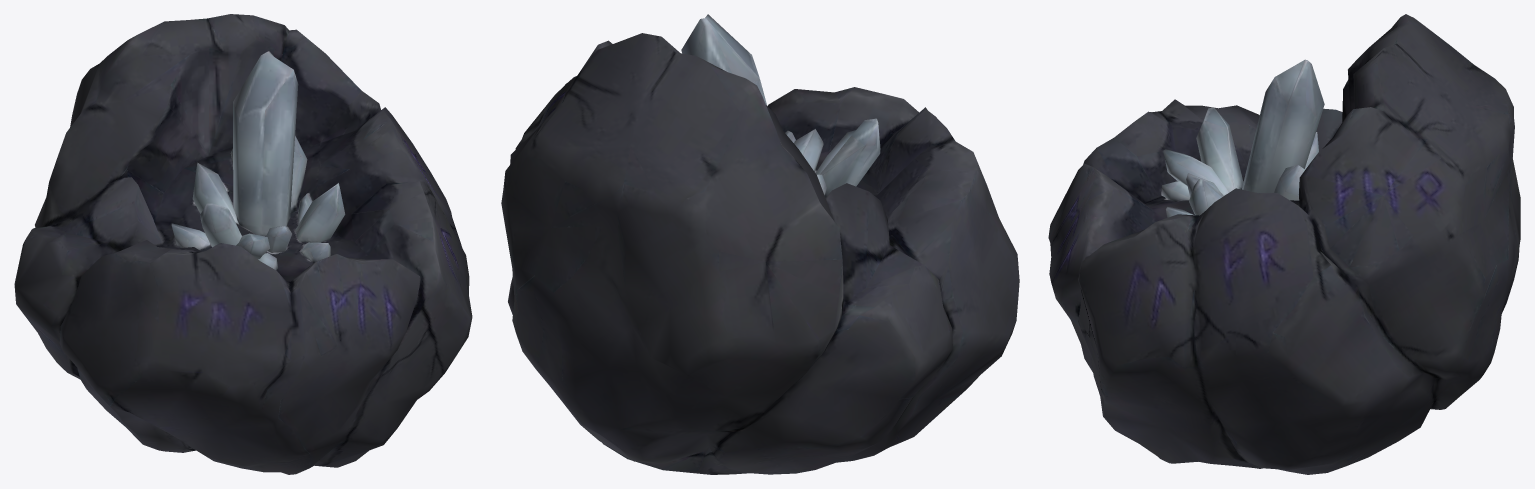
Rendered from prop_node_ore_geode.glb.
3 renders of one model, left to right at view 1: azimuth 30°, elevation 25°; view 2: azimuth 150°, elevation 25°; view 3: azimuth 270°, elevation 25°, orthographic. The views are drawn at different scales.
Visible parts, largest first — view 1: tripo_node_c519e3aa-f8fc-41be-80db-6ed33f1a7bd1; view 2: tripo_node_c519e3aa-f8fc-41be-80db-6ed33f1a7bd1; view 3: tripo_node_c519e3aa-f8fc-41be-80db-6ed33f1a7bd1.
Part boxes in pixels (bbox=[...]): tripo_node_c519e3aa-f8fc-41be-80db-6ed33f1a7bd1: bbox=[14, 14, 472, 474]; tripo_node_c519e3aa-f8fc-41be-80db-6ed33f1a7bd1: bbox=[501, 14, 1019, 474]; tripo_node_c519e3aa-f8fc-41be-80db-6ed33f1a7bd1: bbox=[1048, 14, 1520, 474].
Size of the model in its own units: 0.998 by 0.9589 by 0.998.
Materials: 1 (1 with a texture image).
